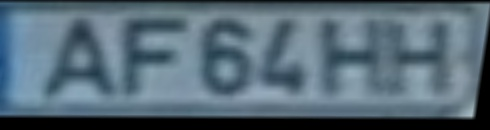4: (259, 19, 313, 101)
6: (194, 18, 256, 102)
A: (32, 17, 126, 106)
F: (120, 17, 194, 100)
H: (317, 18, 389, 100), (390, 18, 457, 100)
